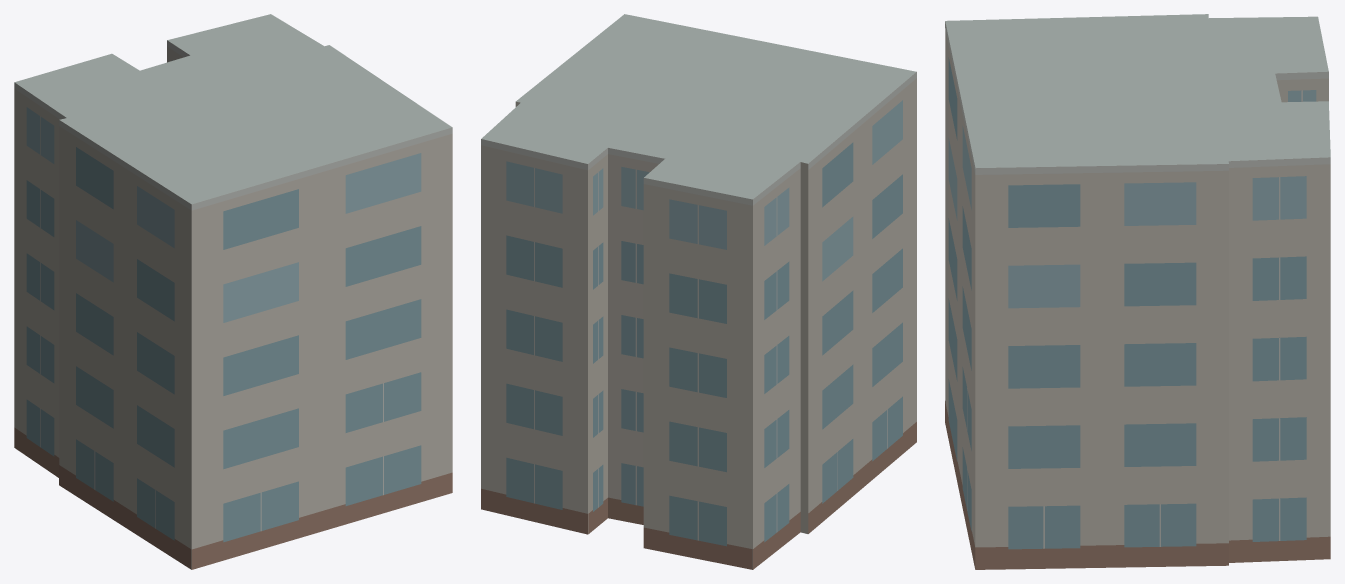
Rendered from survey-upis-32849497.glb.
The picture shows the model from 3 angles, left to right: view 1: azimuth 30°, elevation 25°; view 2: azimuth 150°, elevation 25°; view 3: azimuth 270°, elevation 25°; orthographic projection. The views are drawn at different scales.
Visible parts, largest first — view 1: survey-upis-32849497.tmp; view 2: survey-upis-32849497.tmp; view 3: survey-upis-32849497.tmp.
Part boxes in pixels (bbox=[...]): survey-upis-32849497.tmp: bbox=[14, 14, 452, 569]; survey-upis-32849497.tmp: bbox=[481, 14, 916, 569]; survey-upis-32849497.tmp: bbox=[945, 14, 1330, 569].
Bounding box in the file's own units: 11.86 × 14.4 × 12.54.
